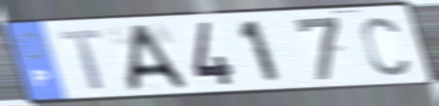1: (238, 18, 284, 86)
4: (189, 19, 236, 89)
7: (292, 15, 342, 82)
A: (126, 22, 192, 94)
C: (358, 15, 411, 78)
T: (55, 28, 107, 92)
